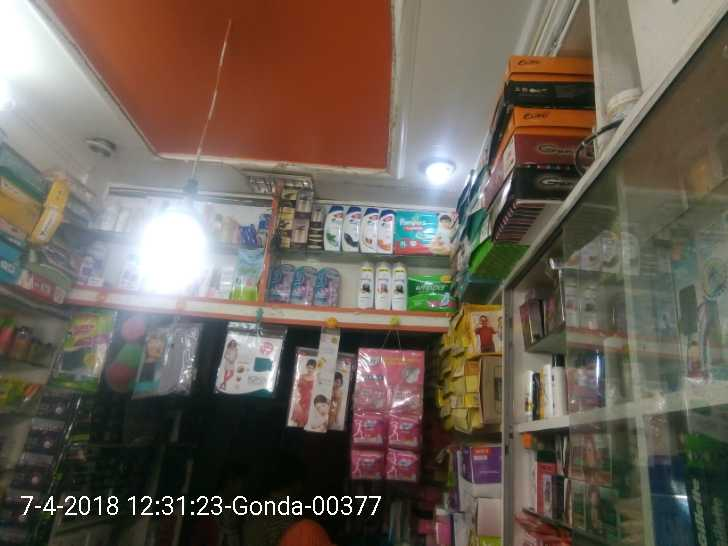venus: (316, 267, 338, 307), (270, 265, 293, 301), (295, 267, 314, 304)
